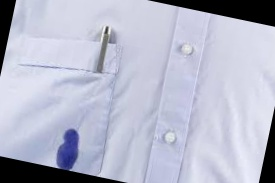ink: (56, 128, 83, 172)
